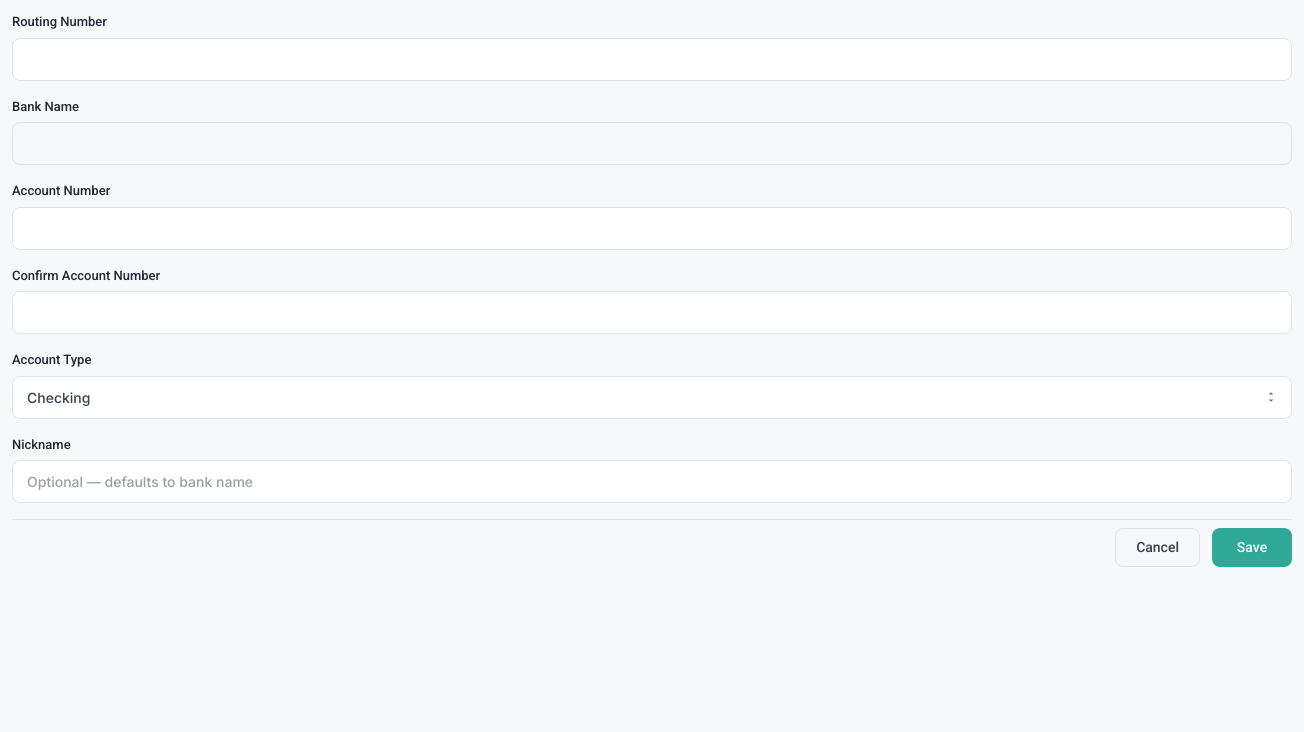
it: BankAccountForm — routing number lookup › auto-fills the bank name after a valid routing number is blurred
Type "021000021" into the field labelled "Routing Number".
click(652, 59); type("021000021")  # box [12,38,1292,80]
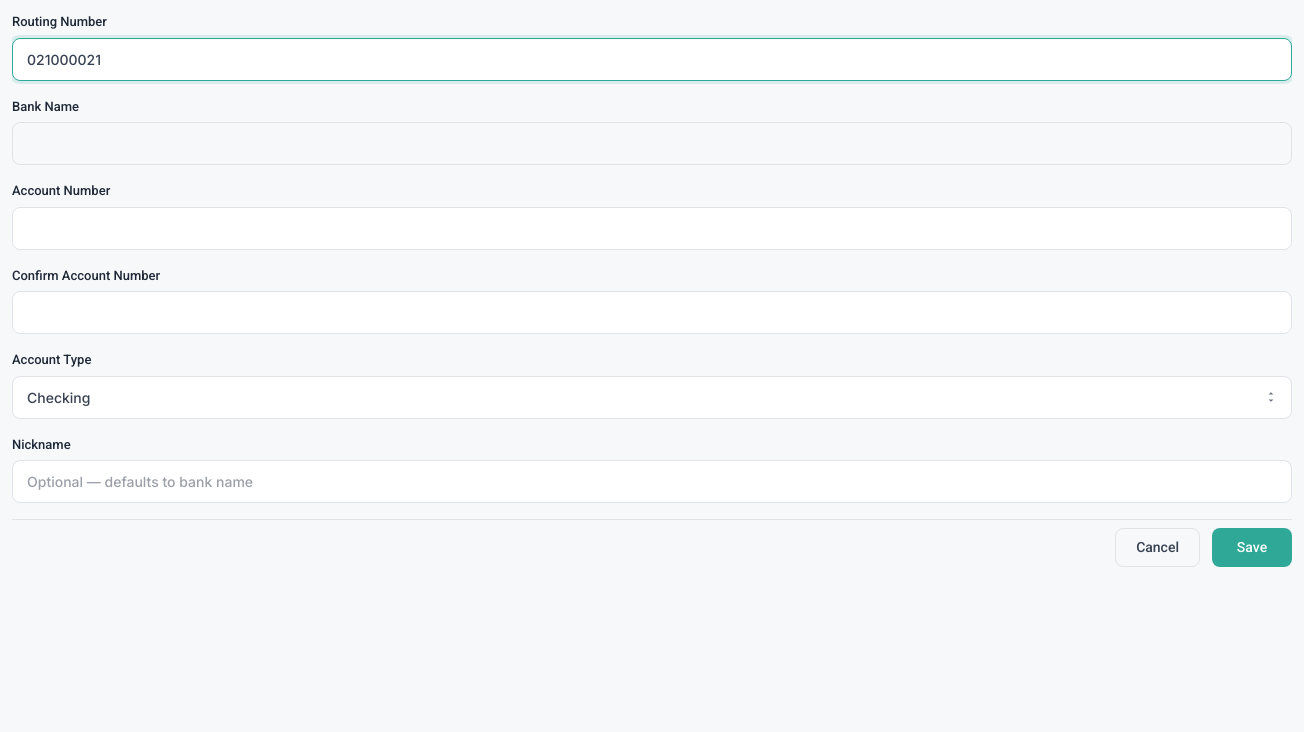
Press Tab
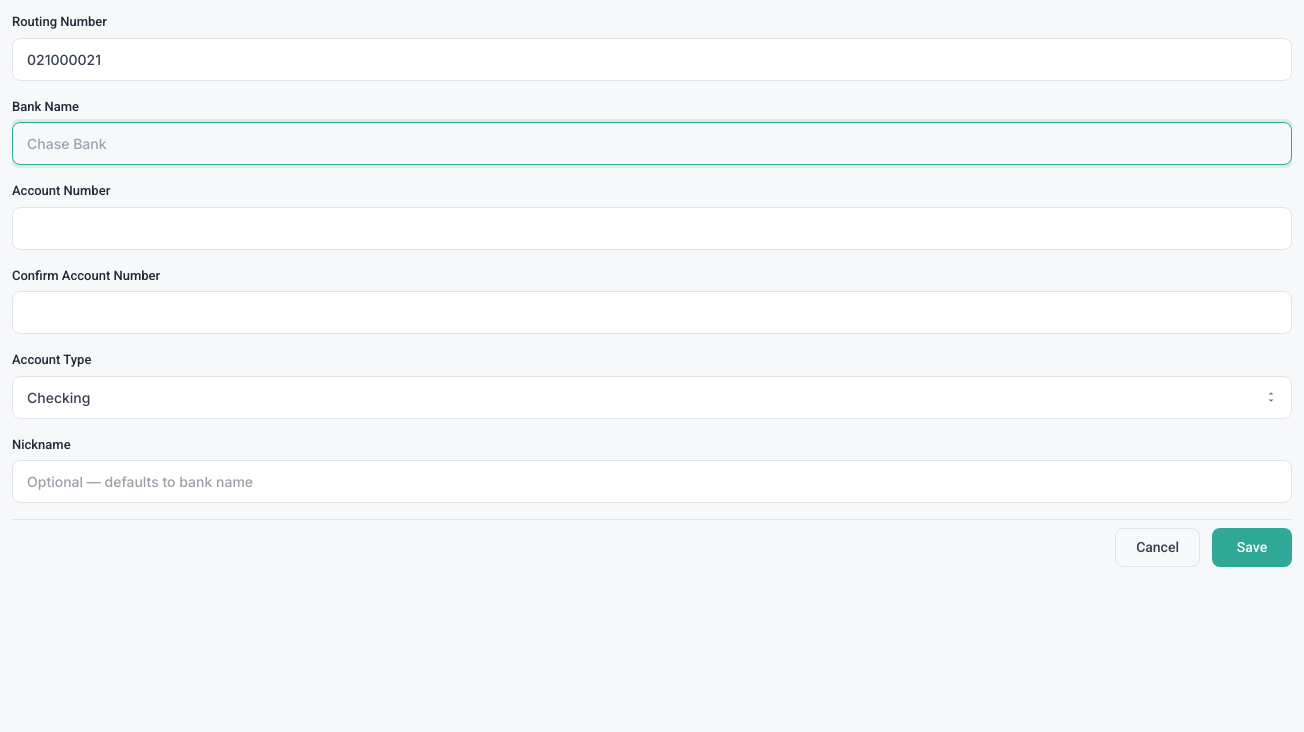
Now the field showing "Chase Bank" is shown, box [12,122,1292,165]
